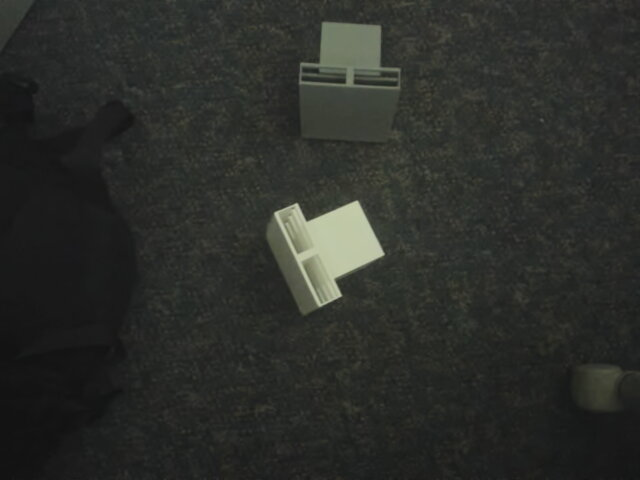grey pallet: (294, 16, 405, 144)
white pallet: (263, 196, 388, 317)
